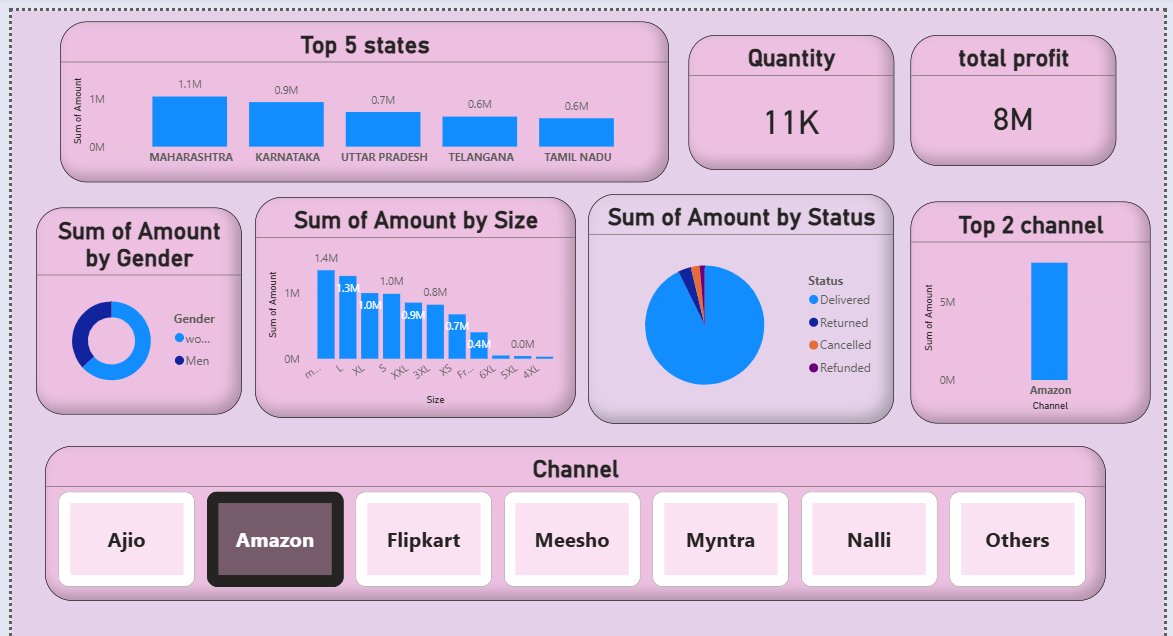

Layout of this report page (visuals, bound fields, positions):
{"tool":"powerbi","page":{"name":"second","canvas":[1280,720],"ordinal":1},"visuals":[{"type":"card","title":"total profit","fields":{"Values":["Sum(Verma Store.Amount)"]},"box":[998.3,26.7,228.3,145],"z":0},{"type":"card","title":"Quantity","fields":{"Values":["Sum(Verma Store.Qty)"]},"box":[751.7,26.7,228.3,150],"z":1000},{"type":"donutChart","fields":{"Category":["Verma Store.Gender"],"Y":["Sum(Verma Store.Amount)"]},"box":[26.7,218.3,228.3,230],"z":2000},{"type":"clusteredColumnChart","fields":{"Category":["Verma Store.Size"],"Y":["Sum(Verma Store.Amount)"]},"box":[270,206.7,356.7,245],"z":3000},{"type":"pieChart","fields":{"Category":["Verma Store.Status"],"Y":["Sum(Verma Store.Amount)"]},"box":[640,203.3,340,255],"z":4000},{"type":"clusteredColumnChart","title":"Top 5 states","fields":{"Category":["Verma Store.ship-state"],"Y":["Sum(Verma Store.Amount)"]},"box":[53.3,11.7,676.7,178.3],"z":5000},{"type":"advancedSlicerVisual","fields":{"Values":["Verma Store.Channel "]},"box":[36.7,483.3,1178.3,171.7],"z":6000},{"type":"clusteredColumnChart","title":"Top 2 channel ","fields":{"Category":["Verma Store.Channel "],"Y":["Sum(Verma Store.Amount)"]},"box":[998.3,211.7,266.7,246.7],"z":7000}]}

Visuals, with their boxes on the page's 1280x720 design canvas (x1, y1, x2, y2). These are canvas units, not pixel positions in the 1173x636 screenshot, which may show the page scaled, cropped or inside an application window:
"total profit" card: l=998, t=27, r=1227, b=172
"Quantity" card: l=752, t=27, r=980, b=177
donutChart - Verma Store.Gender x Sum(Verma Store.Amount): l=27, t=218, r=255, b=448
clusteredColumnChart - Verma Store.Size x Sum(Verma Store.Amount): l=270, t=207, r=627, b=452
pieChart - Verma Store.Status x Sum(Verma Store.Amount): l=640, t=203, r=980, b=458
"Top 5 states" clusteredColumnChart: l=53, t=12, r=730, b=190
advancedSlicerVisual - Verma Store.Channel : l=37, t=483, r=1215, b=655
"Top 2 channel " clusteredColumnChart: l=998, t=212, r=1265, b=458
